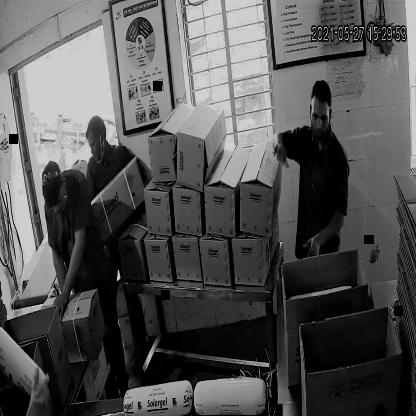no_goggles: (305, 106, 337, 128)
